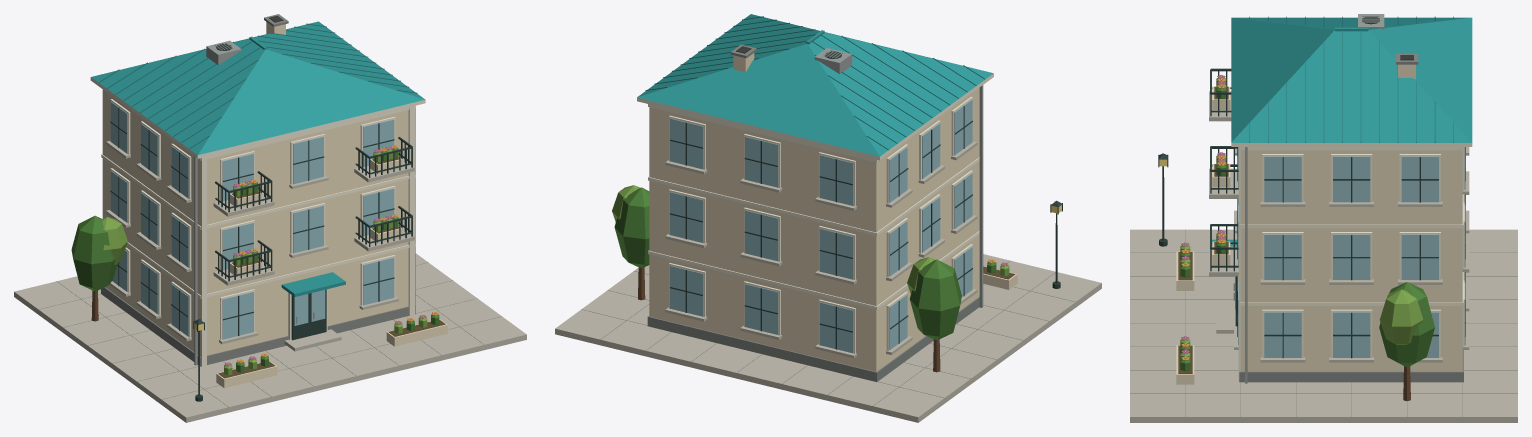
The model's file is 01_Apartment.obj.
3 renders of one model, left to right at view 1: azimuth 30°, elevation 25°; view 2: azimuth 150°, elevation 25°; view 3: azimuth 270°, elevation 25°, orthographic. The views are drawn at different scales.
Parts seen in each view (by area): view 1: 01_Apartment; view 2: 01_Apartment; view 3: 01_Apartment.
Part boxes in pixels (<box>): 01_Apartment: <box>14,14,526,422</box>; 01_Apartment: <box>555,14,1101,422</box>; 01_Apartment: <box>1130,14,1517,422</box>.
Bounding box in the file's own units: 16 × 11.98 × 14.
1 material, 1 textured.
